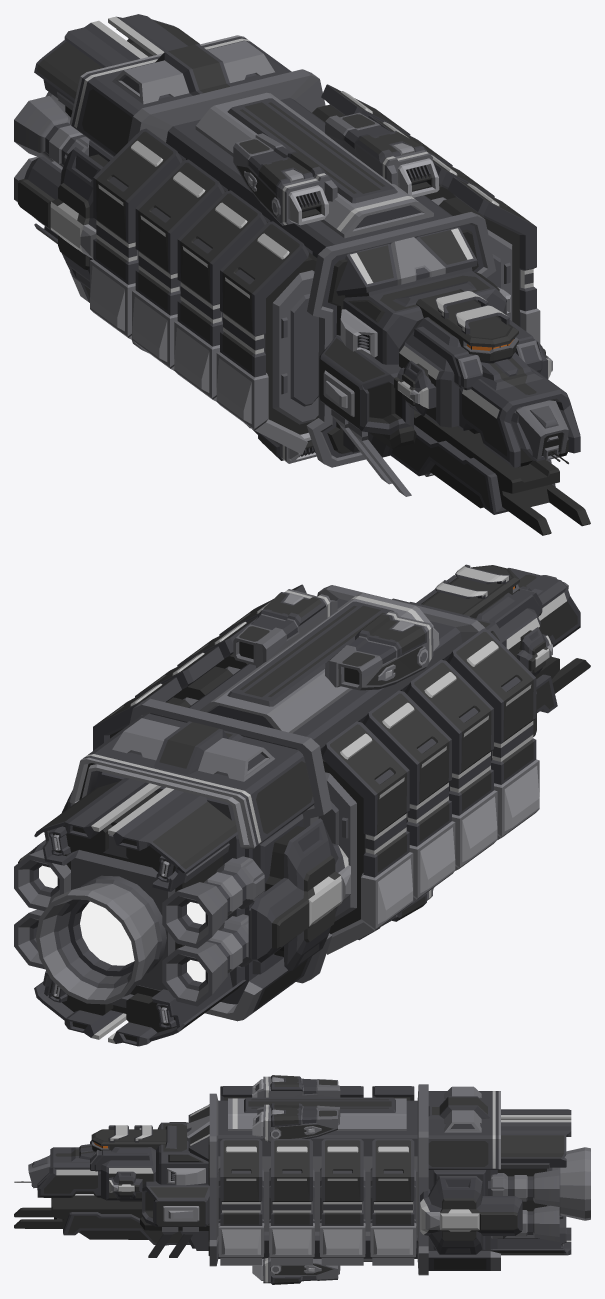
File: SM_Ship_Transport_01.glb
3 renders of one model, top to bottom at view 1: azimuth 30°, elevation 25°; view 2: azimuth 150°, elevation 25°; view 3: azimuth 270°, elevation 25°, orthographic. The views are drawn at different scales.
Parts seen in each view (by area): view 1: SM_Ship_Transport_01, SM_Ship_Transport_CargoPod_01, SM_Ship_Transport_CargoPod_03, SM_Ship_Transport_CargoPod_02, SM_Ship_Transport_CargoPod_04, SM_Ship_Transport_CargoPod_05, SM_Ship_Transport_CargoPod_08, SM_Ship_Transport_CargoPod_06; view 2: SM_Ship_Transport_01, SM_Ship_Transport_CargoPod_04, SM_Ship_Transport_CargoPod_03, SM_Ship_Transport_CargoPod_01, SM_Ship_Transport_CargoPod_02, SM_Ship_Transport_CargoPod_07, SM_Ship_Transport_CargoPod_08, SM_Ship_Transport_CargoPod_06; view 3: SM_Ship_Transport_01, SM_Ship_Transport_CargoPod_08, SM_Ship_Transport_CargoPod_05, SM_Ship_Transport_CargoPod_07, SM_Ship_Transport_CargoPod_06, SM_Ship_Transport_CargoPod_04, SM_Ship_Transport_CargoPod_01, SM_Ship_Transport_CargoPod_03.
Part boxes in pixels (box(x1,y1,x2,y2)): SM_Ship_Transport_01: box(14, 14, 590, 535); SM_Ship_Transport_CargoPod_01: box(216, 221, 318, 454); SM_Ship_Transport_CargoPod_03: box(132, 159, 225, 370); SM_Ship_Transport_CargoPod_02: box(174, 190, 267, 401); SM_Ship_Transport_CargoPod_04: box(90, 128, 183, 339); SM_Ship_Transport_CargoPod_05: box(439, 177, 540, 343); SM_Ship_Transport_CargoPod_08: box(312, 84, 410, 135); SM_Ship_Transport_CargoPod_06: box(424, 155, 494, 205); SM_Ship_Transport_01: box(14, 564, 590, 1046); SM_Ship_Transport_CargoPod_04: box(318, 721, 413, 954); SM_Ship_Transport_CargoPod_03: box(362, 690, 455, 901); SM_Ship_Transport_CargoPod_01: box(446, 628, 539, 839); SM_Ship_Transport_CargoPod_02: box(404, 659, 497, 870); SM_Ship_Transport_CargoPod_07: box(135, 646, 232, 705); SM_Ship_Transport_CargoPod_08: box(93, 677, 190, 750); SM_Ship_Transport_CargoPod_06: box(177, 616, 257, 674); SM_Ship_Transport_01: box(14, 1075, 590, 1284); SM_Ship_Transport_CargoPod_08: box(370, 1139, 416, 1265); SM_Ship_Transport_CargoPod_05: box(218, 1139, 264, 1265); SM_Ship_Transport_CargoPod_07: box(319, 1139, 365, 1265); SM_Ship_Transport_CargoPod_06: box(269, 1139, 314, 1265); SM_Ship_Transport_CargoPod_04: box(372, 1086, 414, 1100); SM_Ship_Transport_CargoPod_01: box(220, 1086, 252, 1100); SM_Ship_Transport_CargoPod_03: box(340, 1086, 363, 1097).
Size of the model in its own units: 48.94 by 45.32 by 137.
Materials: 2 (1 with a texture image).
